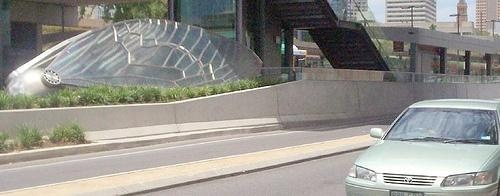car: (343, 96, 500, 196)
